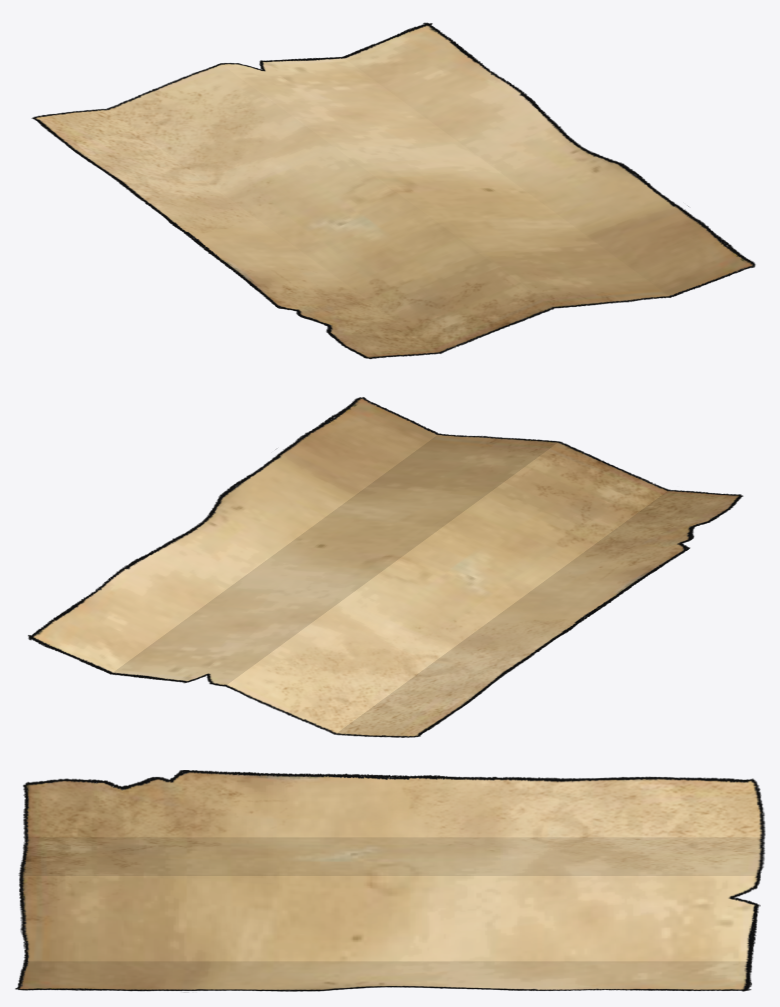
The model's file is blank_paper.glb.
3 renders of one model, top to bottom at view 1: azimuth 30°, elevation 25°; view 2: azimuth 150°, elevation 25°; view 3: azimuth 270°, elevation 25°, orthographic. The views are drawn at different scales.
Parts seen in each view (by area): view 1: Plane; view 2: Plane; view 3: Plane.
Part boxes in pixels (<box>): Plane: <box>31,22,755,358</box>; Plane: <box>28,397,743,737</box>; Plane: <box>15,770,765,991</box>.
Size of the model in its own units: 0.1522 by 0.00701 by 0.2173.
Materials: 2 (2 with a texture image).
